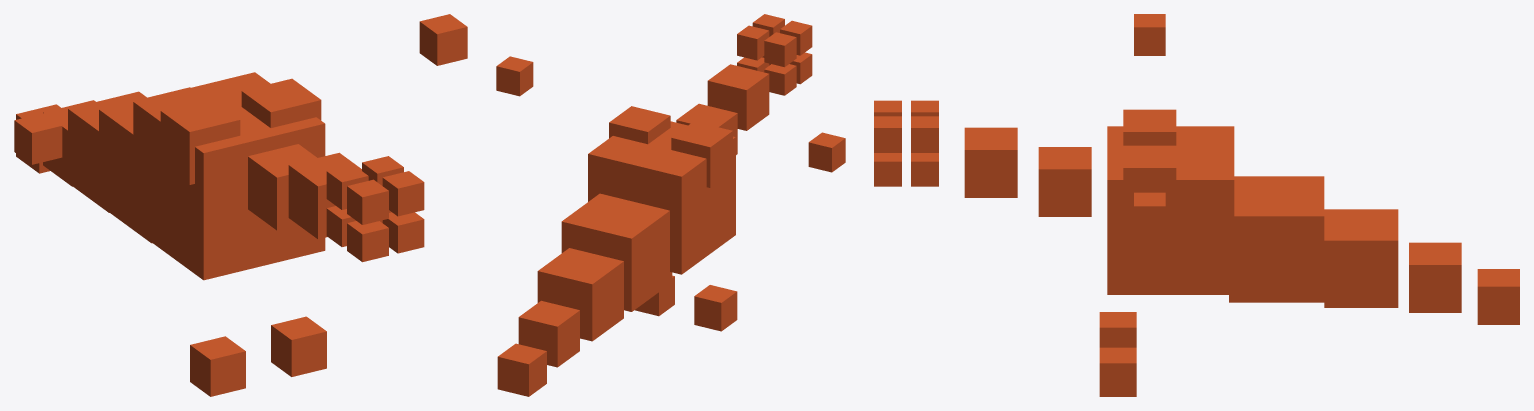
Rendered from dragon_desert.obj.
The picture shows the model from 3 angles, left to right: view 1: azimuth 30°, elevation 25°; view 2: azimuth 150°, elevation 25°; view 3: azimuth 270°, elevation 25°; orthographic projection. The views are drawn at different scales.
Visible parts, largest first — view 1: dragon_desert; view 2: dragon_desert; view 3: dragon_desert.
Part boxes in pixels (<box>): dragon_desert: <box>14,14,467,396</box>; dragon_desert: <box>496,14,845,396</box>; dragon_desert: <box>874,14,1519,396</box>.
Bounding box in the file's own units: 4.3 × 2.72 × 6.11.
